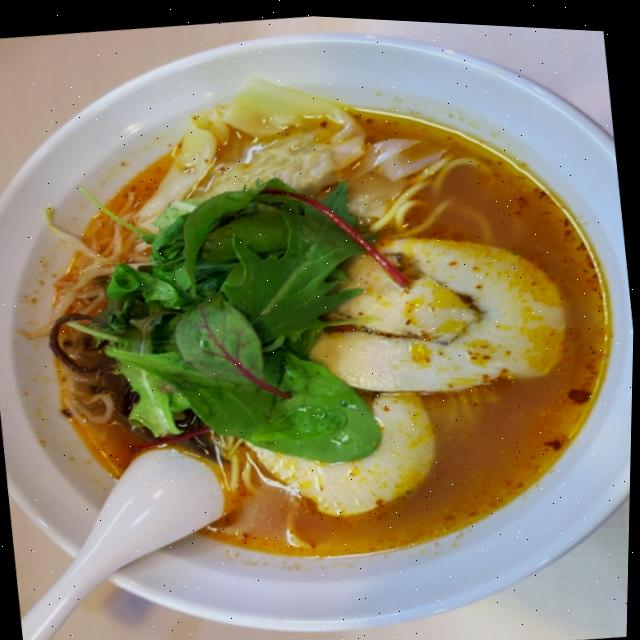面条主食: (0, 16, 639, 632)
